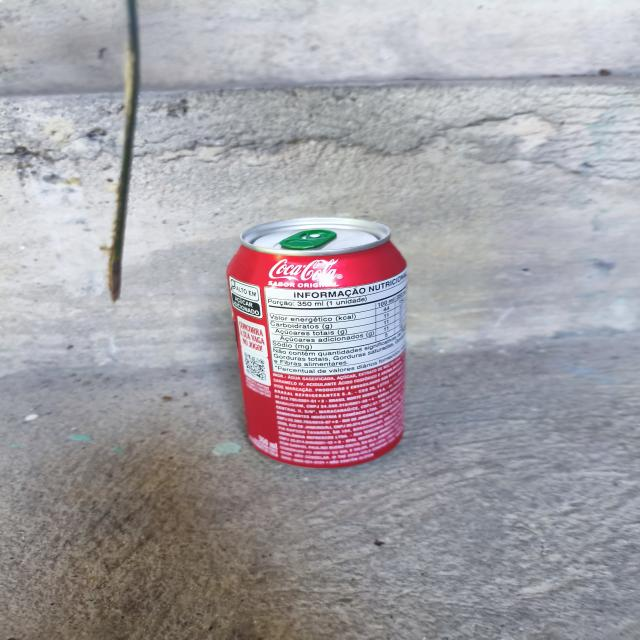Coca Cola: (197, 202, 430, 486)
